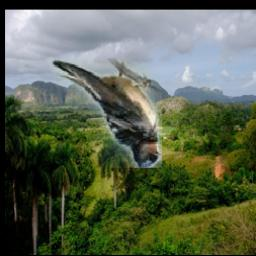Swallow: (24, 58, 162, 168)
